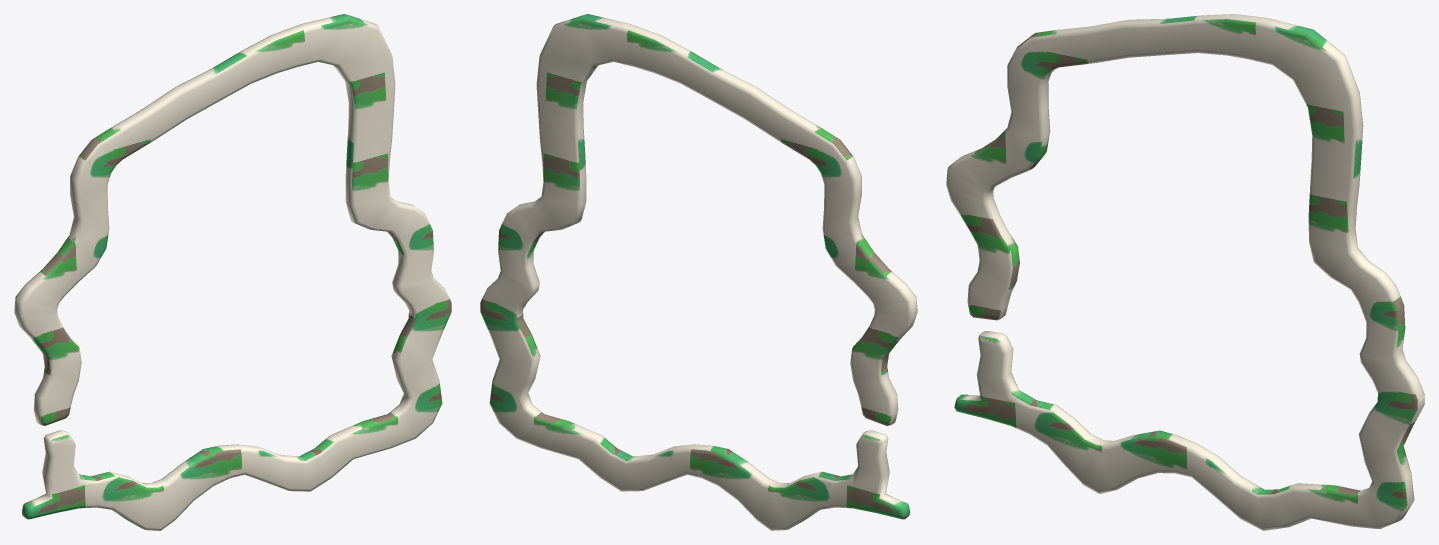
The picture shows the model from 3 angles, left to right: view 1: azimuth 30°, elevation 25°; view 2: azimuth 150°, elevation 25°; view 3: azimuth 330°, elevation 25°; orthographic projection. The views are drawn at different scales.
Parts seen in each view (by area): view 1: Plane002; view 2: Plane002; view 3: Plane002.
Part boxes in pixels (left/top/right/bottom): Plane002: left=14, top=14, right=451, bottom=530; Plane002: left=480, top=14, right=917, bottom=530; Plane002: left=946, top=14, right=1424, bottom=530.
Bounding box in the file's own units: 528 × 546 × 15.89.
